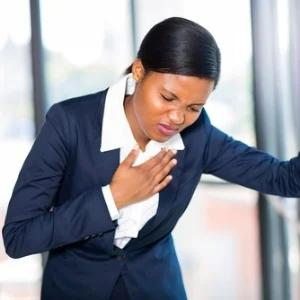pain: (153, 86, 210, 120)
